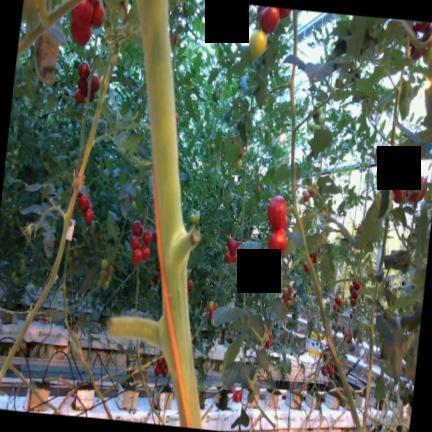6kp_peduncle: (50, 202, 74, 236), (287, 191, 299, 221)
6kp_petiole: (290, 242, 311, 271), (274, 72, 295, 95), (387, 74, 403, 102), (291, 116, 308, 140), (314, 280, 331, 302), (379, 131, 395, 152)
MainStem: (0, 52, 119, 384), (137, 0, 202, 429), (291, 64, 363, 432), (63, 241, 105, 401), (362, 307, 375, 432), (75, 109, 88, 177), (378, 215, 389, 275), (393, 66, 405, 121), (241, 139, 247, 244), (86, 59, 95, 106), (243, 272, 246, 311)
tomato: (268, 195, 287, 229), (71, 0, 93, 28), (268, 228, 287, 260), (71, 19, 91, 45), (406, 175, 426, 201), (260, 7, 279, 33), (249, 30, 266, 57), (262, 260, 280, 285), (250, 264, 264, 290), (91, 0, 104, 27), (392, 182, 408, 203), (78, 60, 90, 79), (410, 45, 425, 60), (78, 194, 89, 212), (83, 208, 94, 224), (78, 77, 88, 94), (132, 248, 142, 265), (407, 161, 419, 175), (423, 47, 432, 65), (415, 21, 431, 31), (132, 220, 142, 235), (91, 74, 99, 92), (143, 228, 152, 244), (75, 89, 85, 103), (130, 236, 140, 250), (141, 245, 150, 260), (229, 240, 237, 254), (161, 363, 168, 377), (157, 357, 165, 368), (194, 211, 200, 225), (19, 263, 26, 275), (187, 279, 193, 292), (102, 279, 109, 290), (226, 251, 232, 263), (236, 159, 242, 171), (317, 114, 324, 124), (190, 213, 196, 224), (155, 365, 161, 376), (375, 145, 381, 156), (379, 149, 384, 162), (101, 260, 108, 269), (353, 281, 360, 290), (89, 92, 95, 102), (73, 249, 79, 259), (13, 276, 19, 286), (227, 236, 233, 246), (304, 191, 310, 201), (352, 289, 358, 299), (208, 301, 214, 311), (10, 272, 16, 281), (316, 106, 322, 115), (307, 120, 313, 129), (304, 262, 309, 272), (288, 284, 293, 294), (265, 127, 270, 137), (310, 123, 316, 131), (350, 298, 356, 306), (335, 296, 341, 304), (209, 310, 214, 319), (210, 142, 215, 151), (265, 341, 271, 348), (131, 201, 136, 209), (13, 150, 18, 158), (232, 254, 237, 262), (345, 298, 350, 306), (286, 299, 291, 307), (283, 287, 288, 295), (216, 80, 221, 87), (213, 88, 218, 95), (313, 112, 317, 119), (333, 303, 337, 310), (283, 294, 287, 301), (214, 302, 218, 309), (107, 276, 111, 282), (316, 124, 320, 129), (289, 295, 293, 300), (12, 159, 15, 163)
